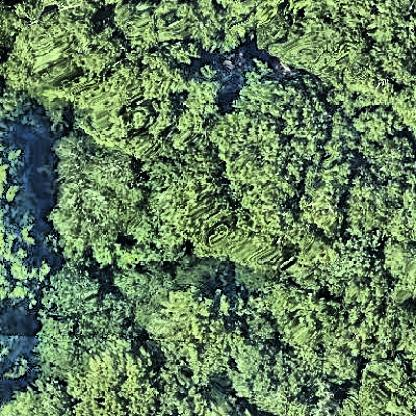tree-top: (214, 66, 318, 208), (279, 0, 414, 106), (90, 68, 228, 162), (4, 4, 119, 100), (51, 146, 146, 260), (35, 273, 134, 374), (146, 289, 242, 377), (114, 0, 248, 60), (66, 341, 168, 415), (206, 200, 302, 274), (42, 260, 115, 332), (248, 316, 304, 409), (258, 284, 327, 356), (348, 174, 410, 248), (146, 369, 241, 416), (358, 288, 416, 359), (357, 342, 413, 415), (298, 167, 350, 236), (158, 158, 212, 223), (111, 264, 170, 322), (0, 205, 39, 291), (3, 374, 76, 416), (320, 242, 374, 290), (382, 231, 416, 298), (173, 252, 227, 293), (0, 320, 30, 387), (0, 136, 23, 221), (394, 77, 416, 136)
